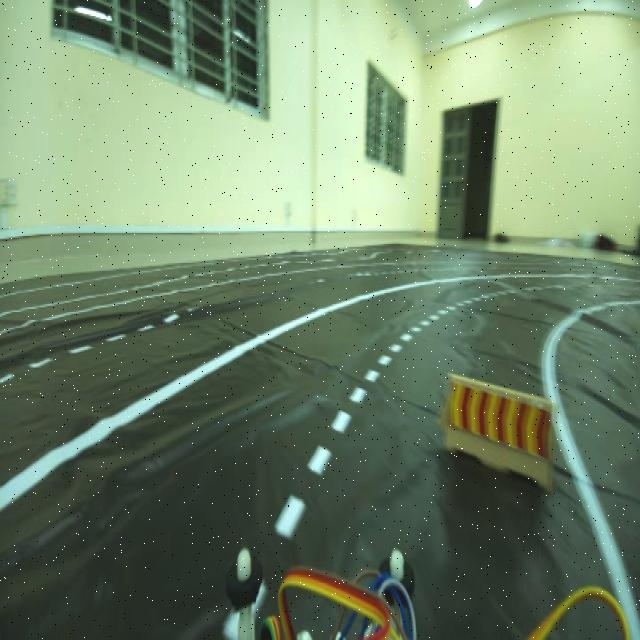roadblock: (437, 362, 552, 500)
